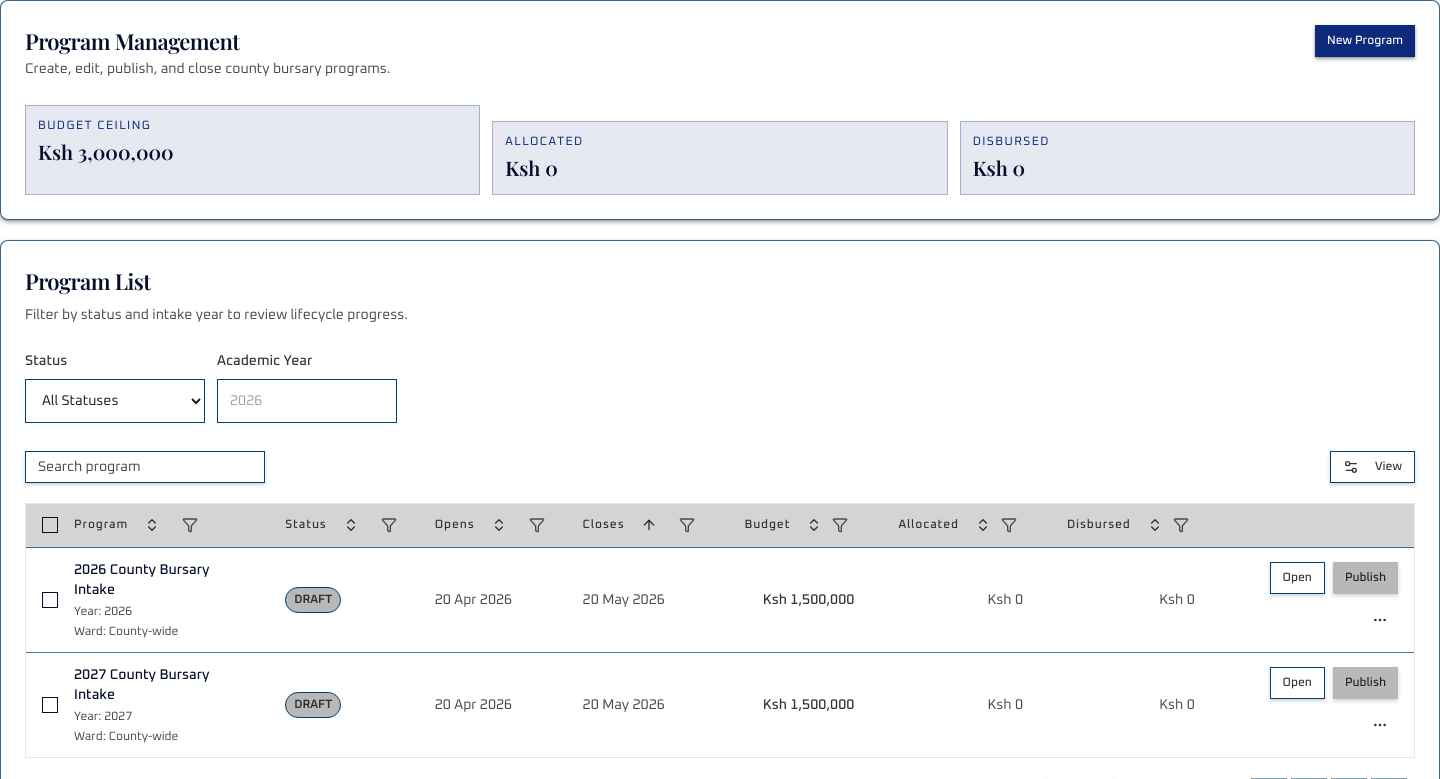
Test: ProgramSettingsListPage › publishes selected draft programs from the toolbar
Click the checkbox named "Select row prog-2026". click: click(50, 600)
box: [42,592,58,608]
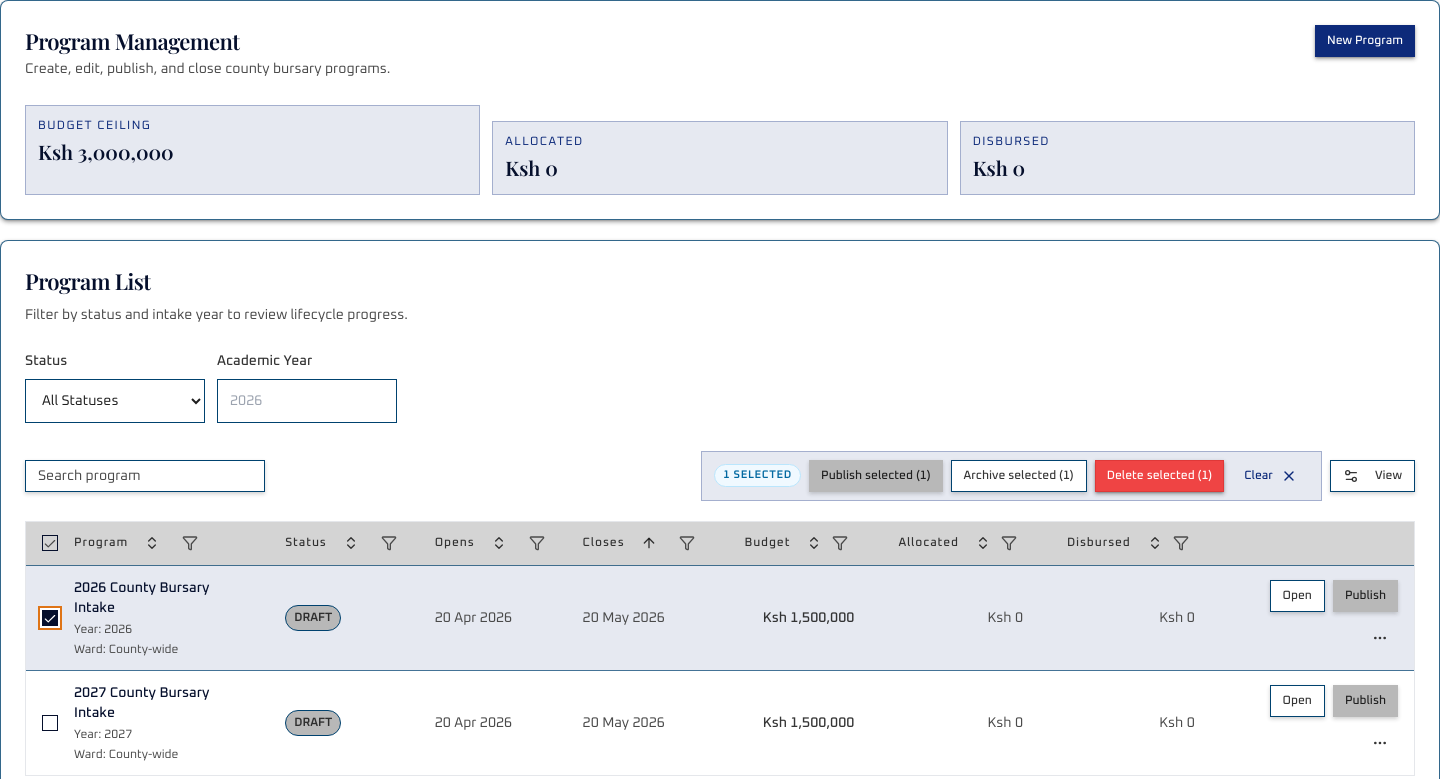
Click the checkbox named "Select row prog-2027". click: click(50, 723)
box: [42,715,58,731]
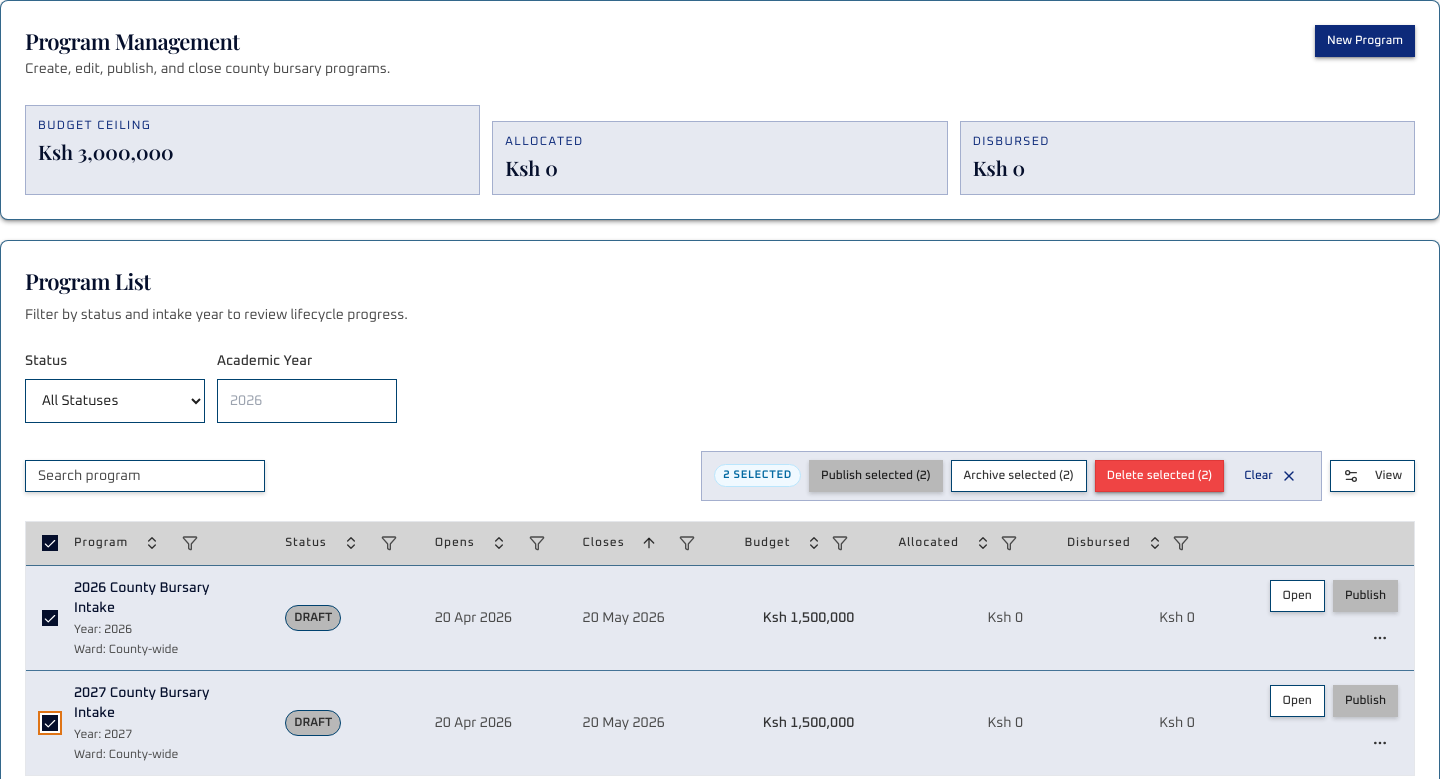
Check: the text "2 selected" is shown, box [714,464,801,487]
Click the button "Publish selected (2)". click: click(876, 476)
box: [809,460,943,492]
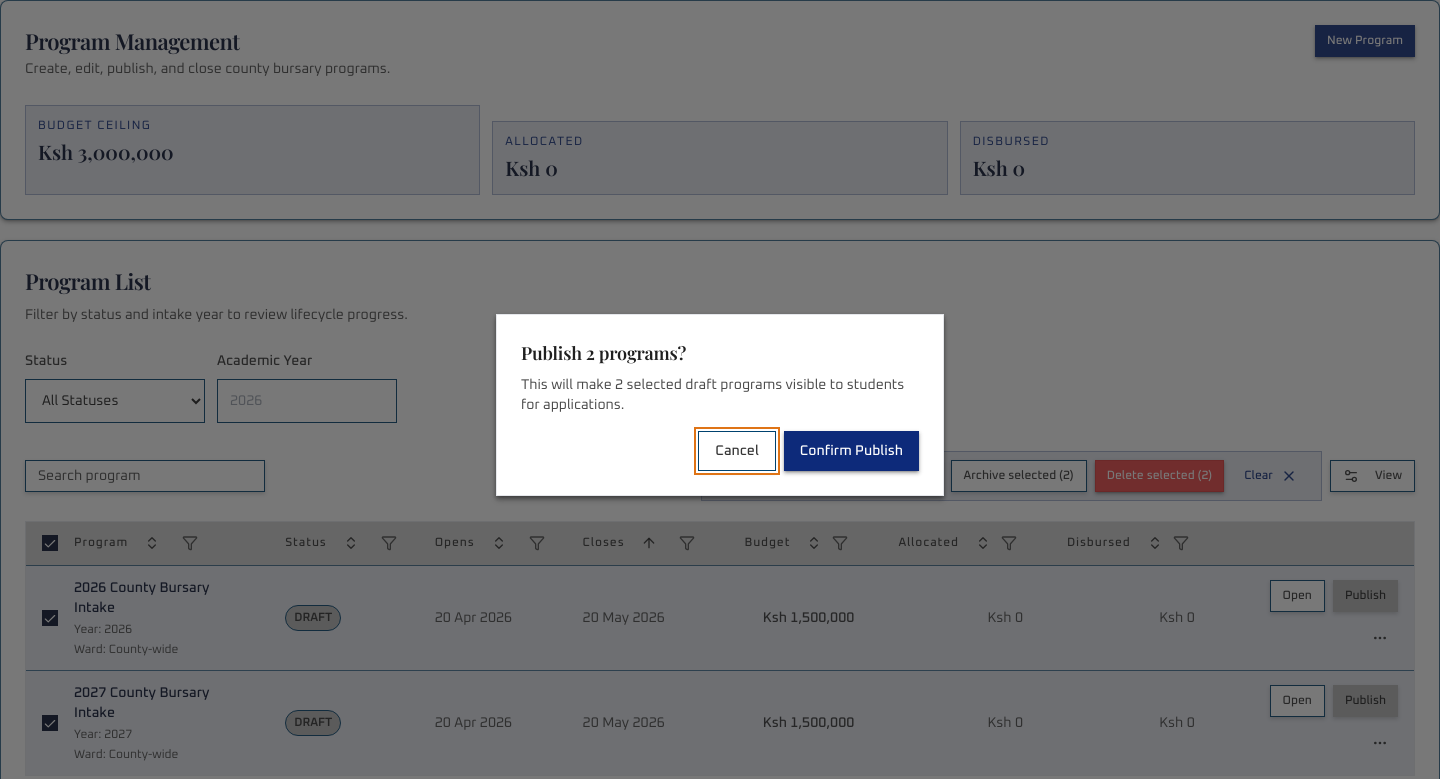
Click the button "Confirm Publish". click: click(851, 451)
box: [784,431,919,471]
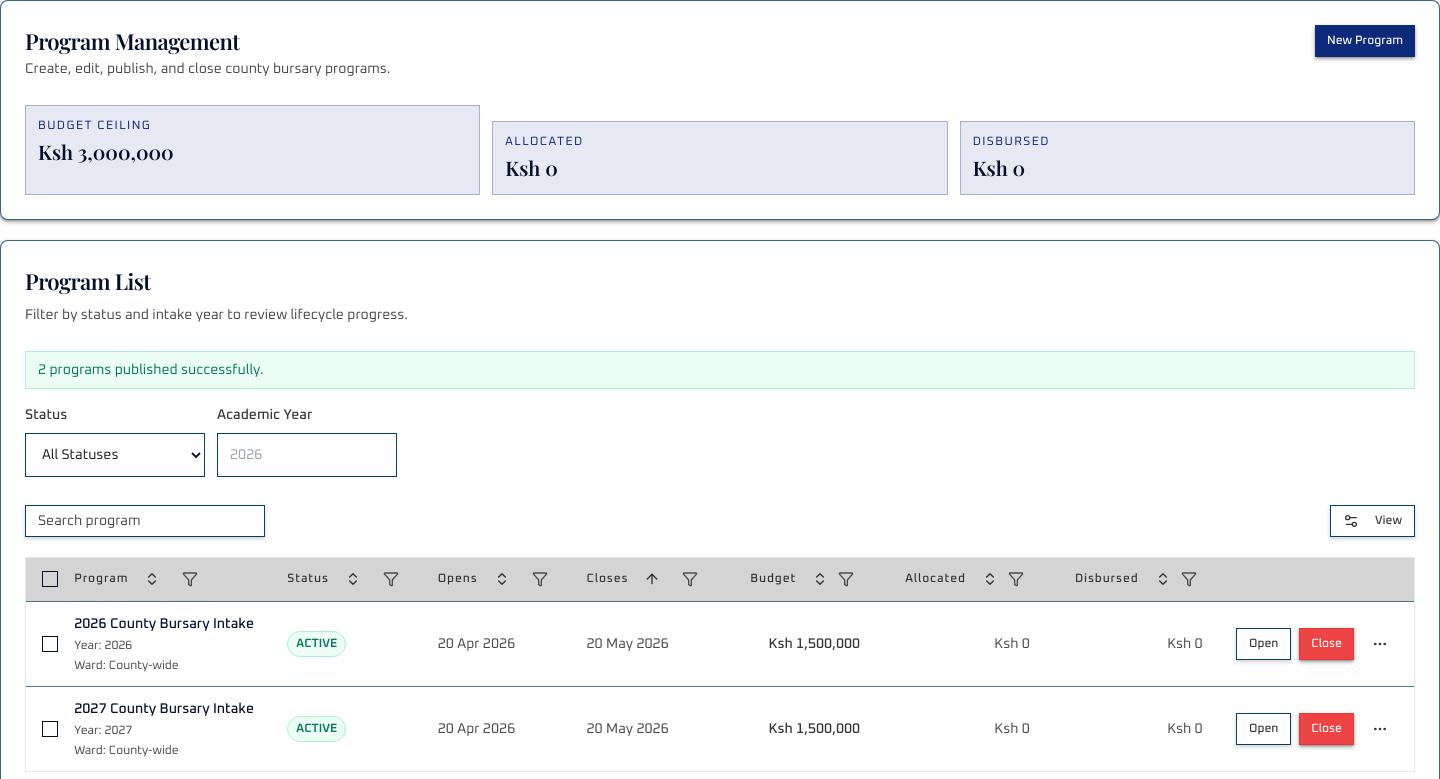
Check: the text "2 programs published successfully." is shown, box [25,350,1415,388]
